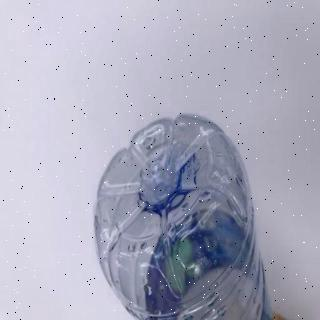Plastic-bottle: (94, 113, 276, 320)
